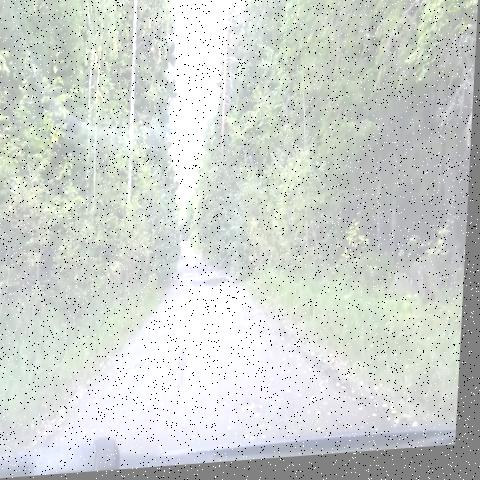pothole: (197, 269, 237, 303), (131, 362, 155, 381)
